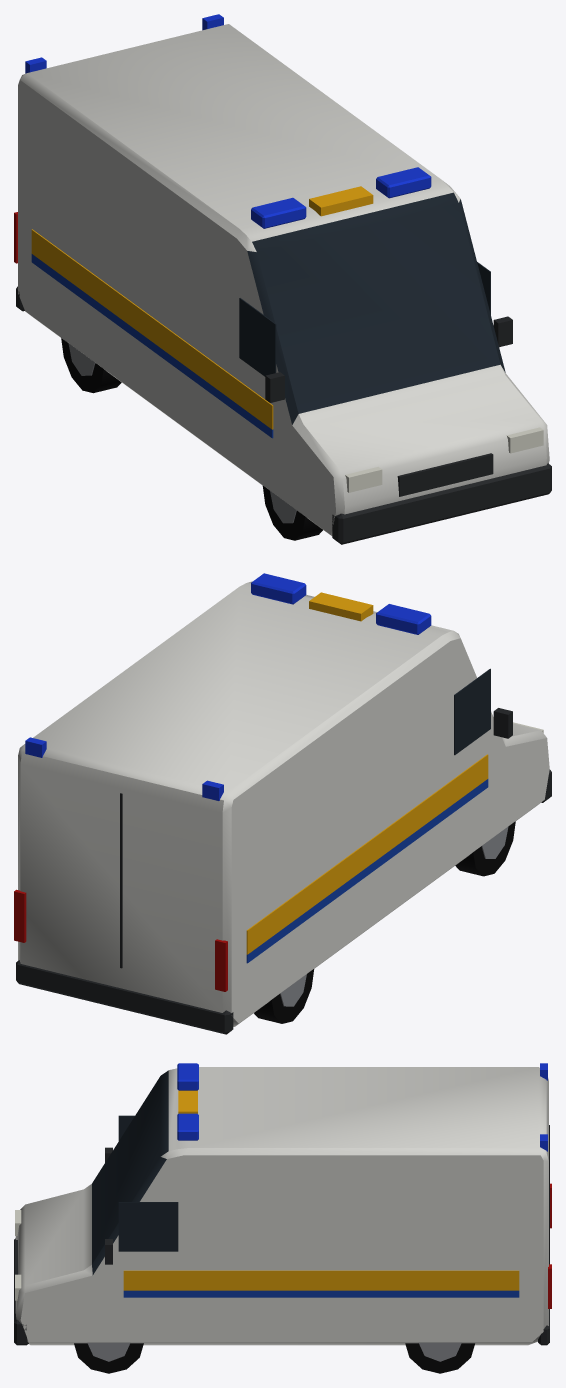
The model's file is ambulance.glb.
3 views of the same model, one above another, from view 1: azimuth 30°, elevation 25°; view 2: azimuth 150°, elevation 25°; view 3: azimuth 270°, elevation 25° (orthographic). The views are drawn at different scales.
Visible parts, largest first — view 1: ambulance; view 2: ambulance; view 3: ambulance.
Part boxes in pixels (x1,y1,x2,y2): ambulance: [14, 14, 551, 544]; ambulance: [14, 573, 551, 1034]; ambulance: [14, 1063, 551, 1373].
Bounding box in the file's own units: 2.33 × 2.62 × 5.44.
